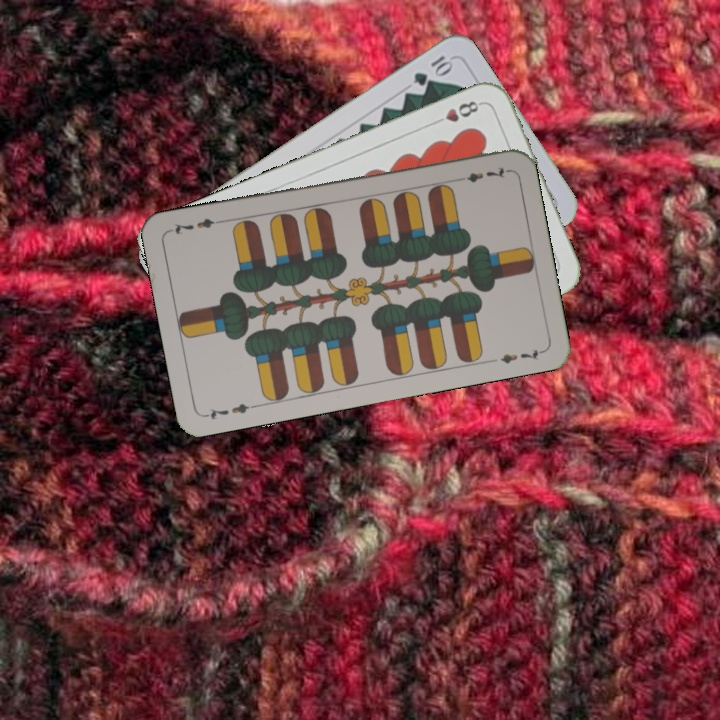E7: (201, 399, 260, 422), (451, 163, 510, 185)
G10: (409, 51, 455, 89)
H8: (429, 96, 485, 128)
